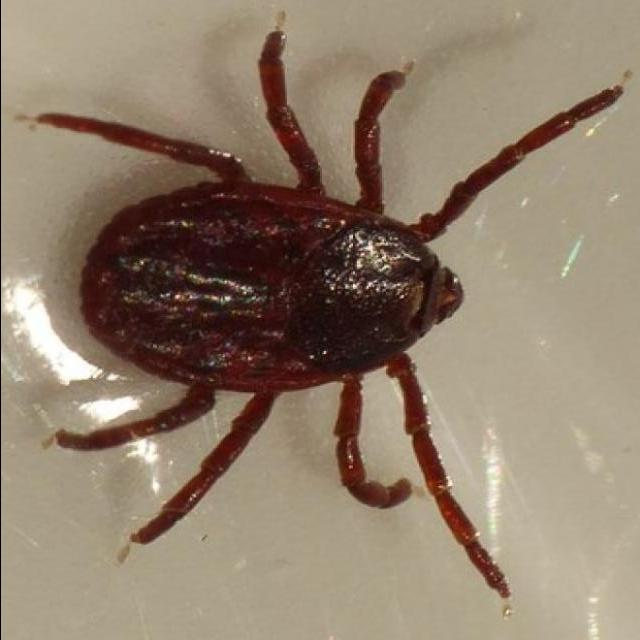Rhipicephalus Sanguineus-F: (31, 28, 622, 598)
